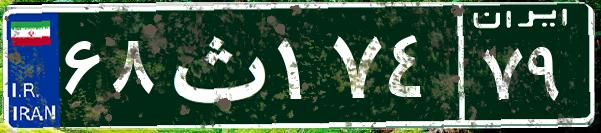1: (273, 28, 330, 110)
4: (385, 28, 445, 110)
6: (57, 26, 110, 107)
7: (330, 28, 385, 110), (475, 38, 525, 113)
8: (110, 28, 158, 105)
9: (525, 38, 570, 115)
ث: (158, 15, 273, 115)
